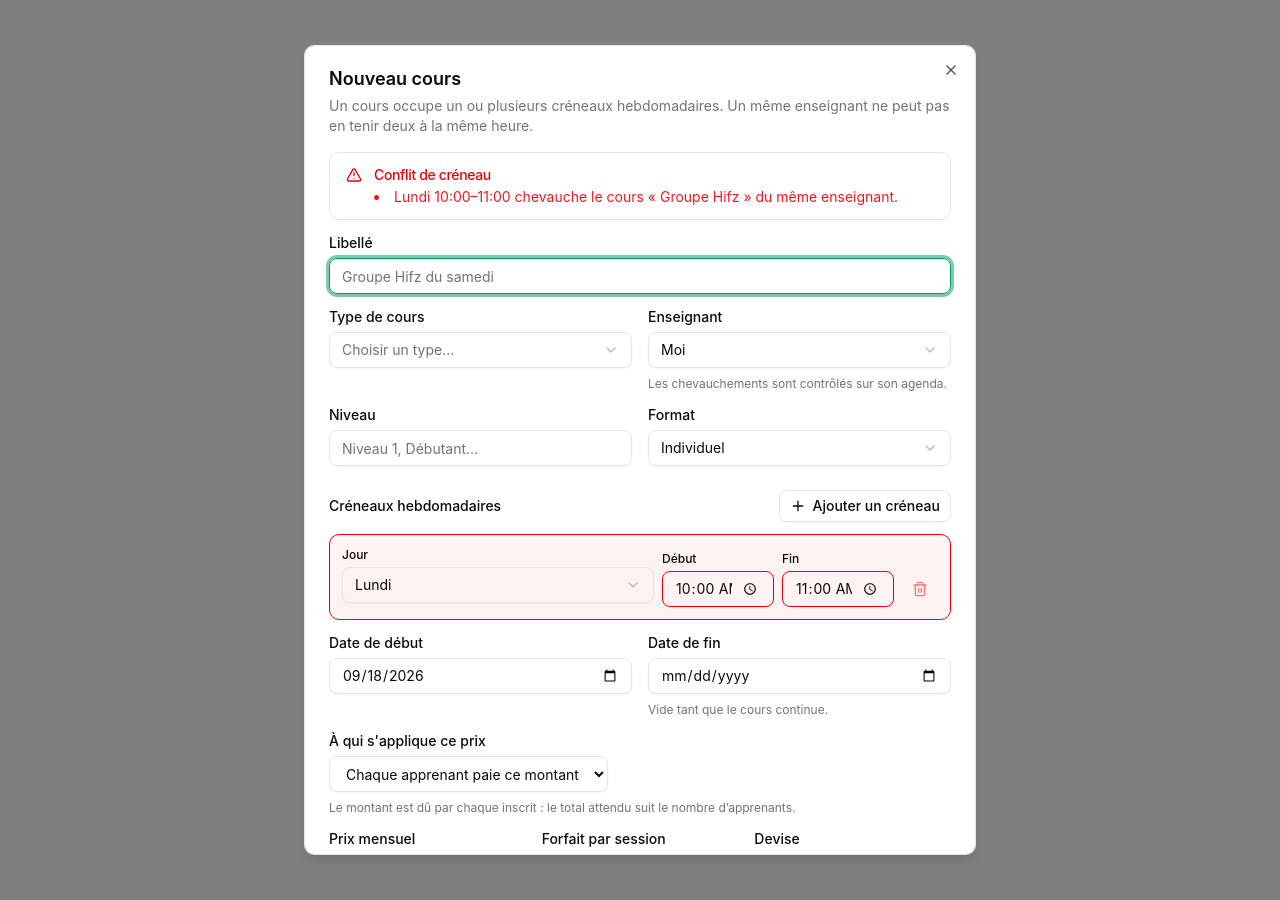
Test: CoursFormDialog — l’aperçu de conflit suit l’agenda choisi › recalcule dès qu’on change d’enseignant, sans rien enregistrer
The image size is (1280, 900).
Expected: the list item "chevauche le cours « Groupe Hifz »" is shown, [394,188,898,205]
Click the dropdown named "Enseignant".
click(673, 350)  # box [648,332,951,368]
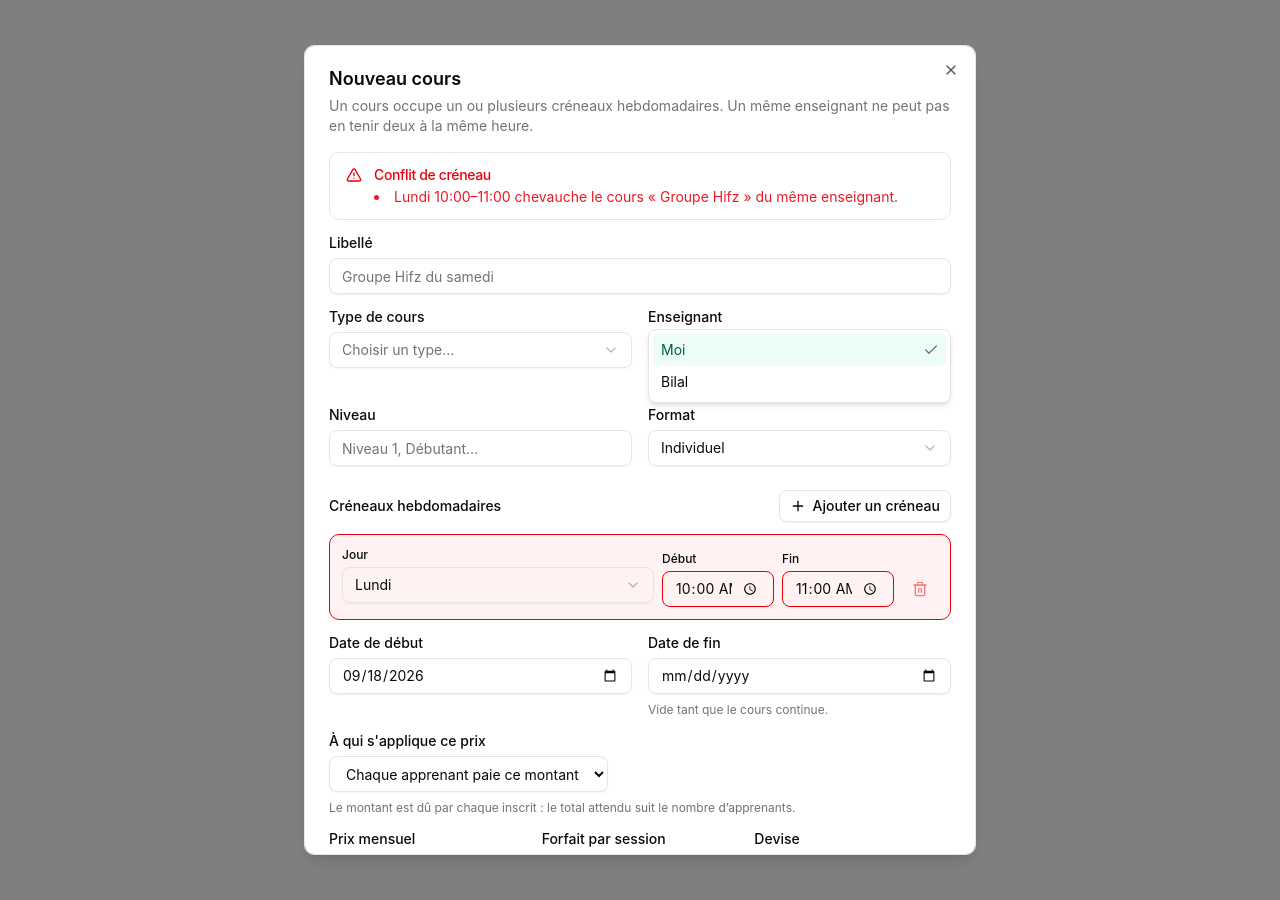
Click the option "Bilal".
click(675, 382)  # box [661,373,688,390]
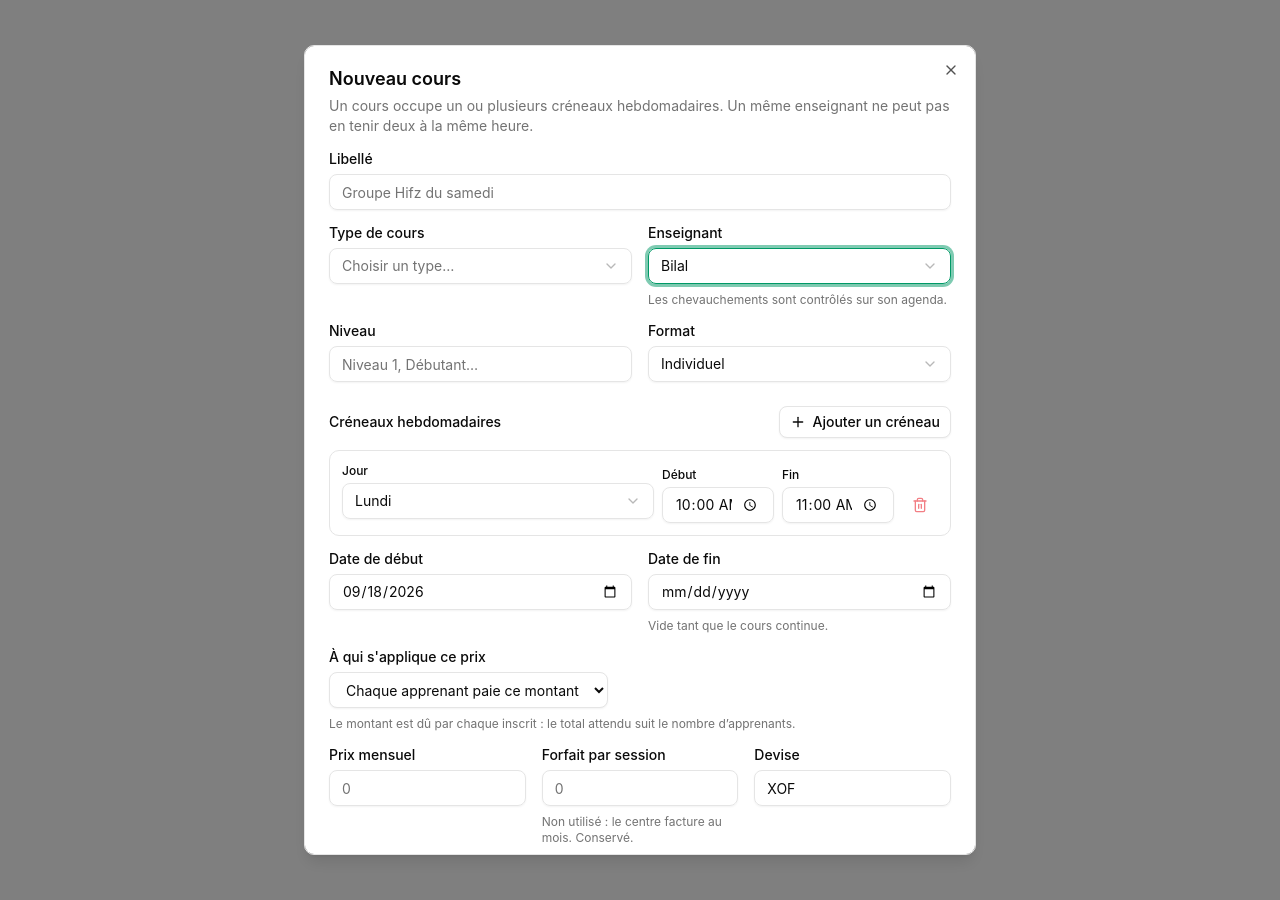
Now the list item "chevauche le cours" is gone
